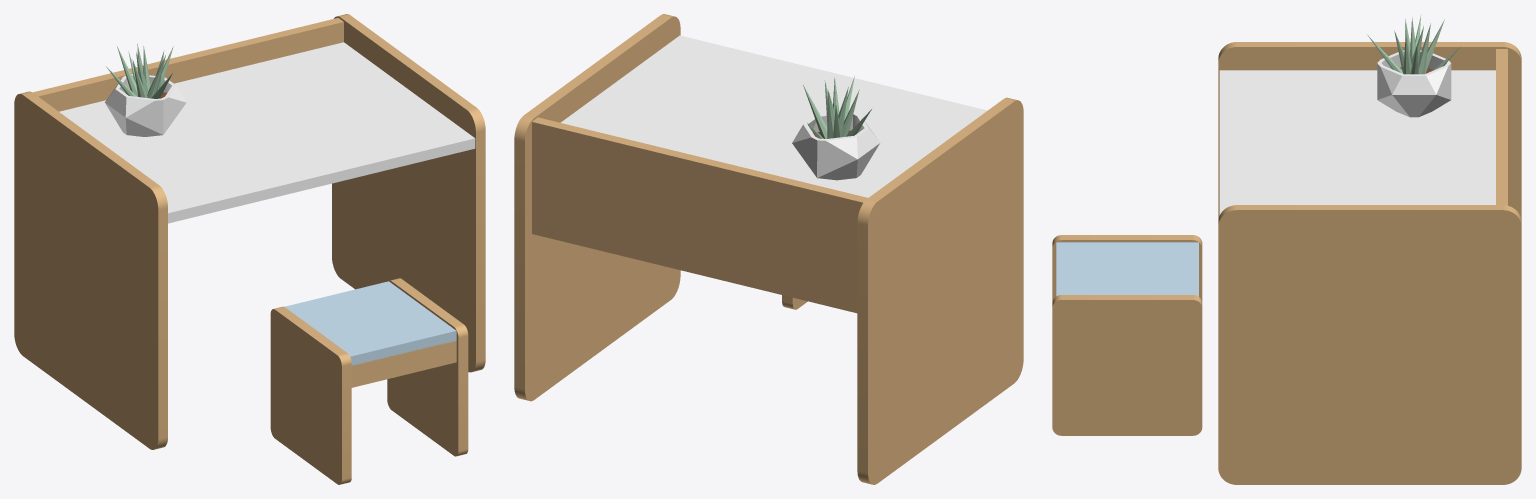
The model's file is Furn1_worktable_color1_joined.fbx.
3 renders of one model, left to right at view 1: azimuth 30°, elevation 25°; view 2: azimuth 150°, elevation 25°; view 3: azimuth 270°, elevation 25°, orthographic. The views are drawn at different scales.
Parts seen in each view (by area): view 1: Куб.007; view 2: Куб.007; view 3: Куб.007.
Boxes of the visible parts, <box> form: Куб.007: <box>14,14,485,484</box>; Куб.007: <box>514,14,1023,484</box>; Куб.007: <box>1052,14,1521,484</box>.
Size of the model in its own units: 193 by 180 by 228.
